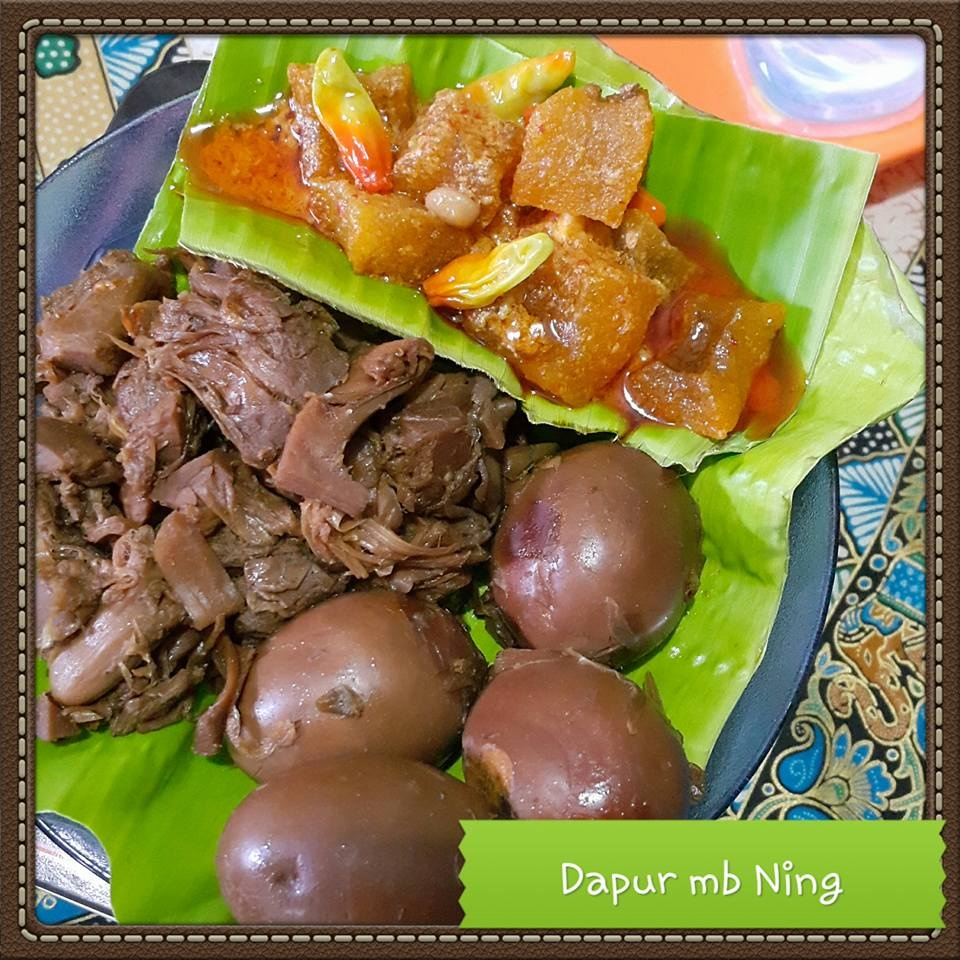gudeg: (39, 252, 663, 787)
